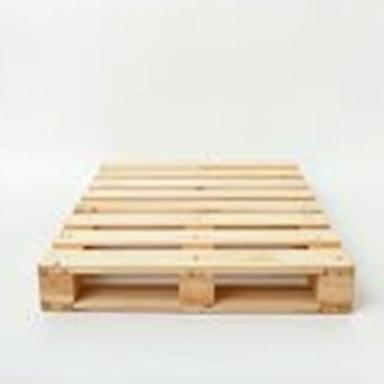pallet: (38, 157, 356, 314)
